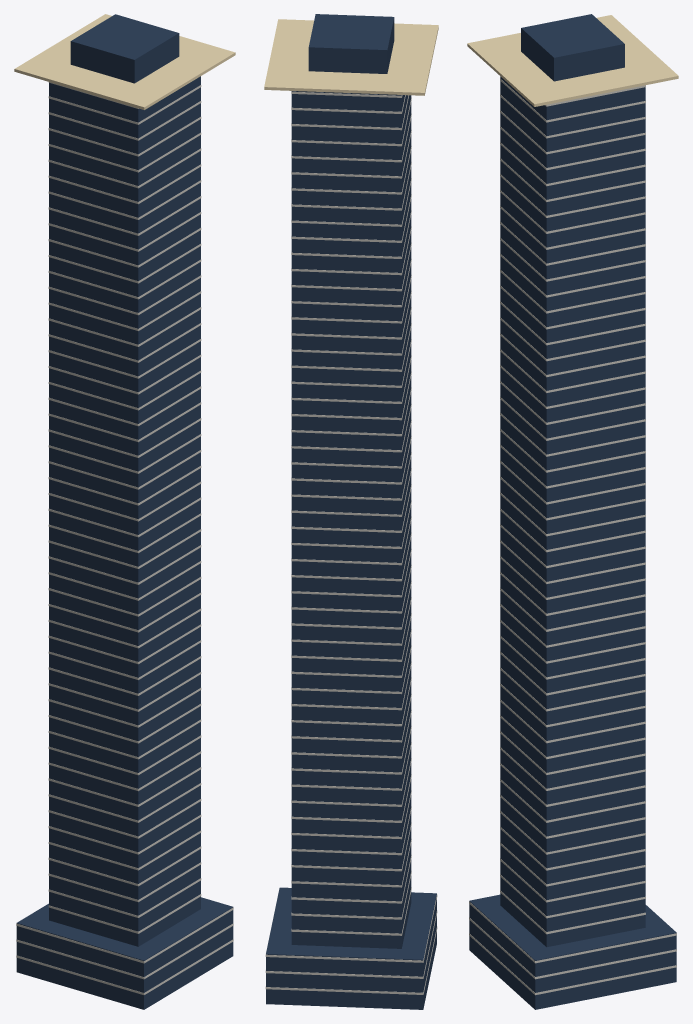
Rendered from ubora-tower-1.glb.
3 renders of one model, left to right at view 1: azimuth 30°, elevation 25°; view 2: azimuth 150°, elevation 25°; view 3: azimuth 270°, elevation 25°, orthographic.
Parts seen in each view (by area): view 1: M_ubora-tower-1, ubora-tower-1_gold, band.834, band.833, band.835; view 2: M_ubora-tower-1, ubora-tower-1_gold, band.835, band.834, band.833; view 3: M_ubora-tower-1, ubora-tower-1_gold, band.834, band.835, band.833.
Part boxes in pixels (x1=…): M_ubora-tower-1: x1=16, y1=14, x2=233, y2=1009; ubora-tower-1_gold: x1=14, y1=14, x2=235, y2=109; band.834: x1=16, y1=923, x2=233, y2=979; band.833: x1=16, y1=939, x2=233, y2=994; band.835: x1=16, y1=907, x2=233, y2=963; M_ubora-tower-1: x1=266, y1=14, x2=436, y2=1009; ubora-tower-1_gold: x1=264, y1=19, x2=438, y2=95; band.835: x1=265, y1=889, x2=437, y2=962; band.834: x1=265, y1=910, x2=437, y2=978; band.833: x1=265, y1=926, x2=437, y2=994; M_ubora-tower-1: x1=469, y1=14, x2=676, y2=1009; ubora-tower-1_gold: x1=467, y1=15, x2=678, y2=106; band.834: x1=469, y1=917, x2=676, y2=979; band.835: x1=469, y1=901, x2=676, y2=963; band.833: x1=469, y1=933, x2=676, y2=995.
Bounding box in the file's own units: 54.22 × 263 × 54.22.
